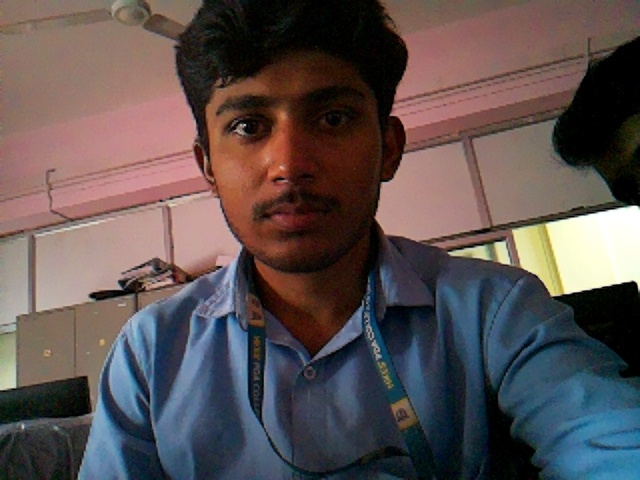Vaibhav: (174, 2, 410, 275)
